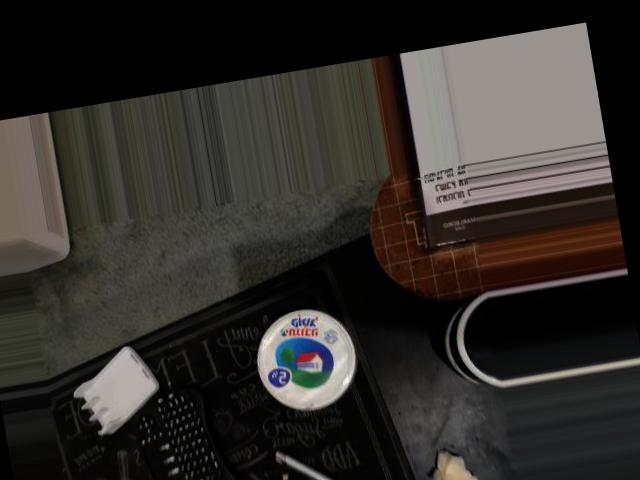cotage: (241, 282, 369, 420)
